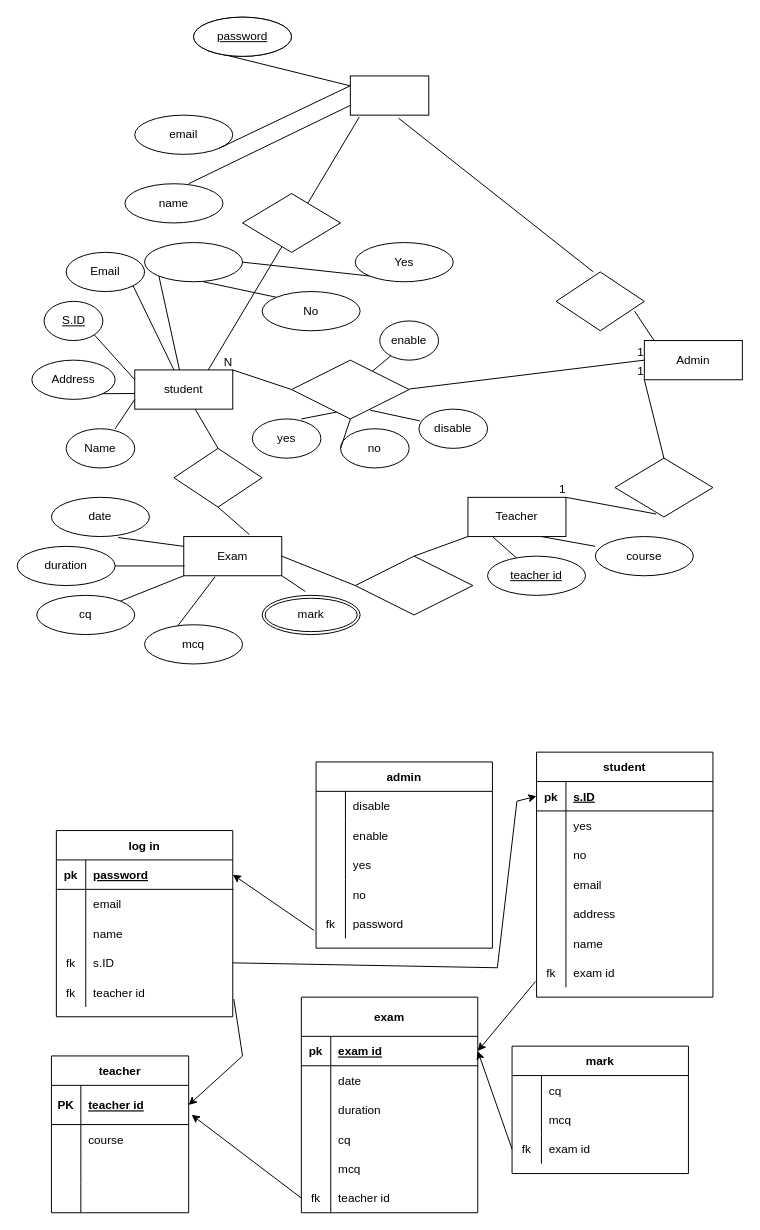
The diagram is 760 pixels wide and 1230 high, and some of its shapes have lost their labels. The shapes that lost their labels are listed below. From the top down, each one's centre as x and y in pixels, then its label:
the point at 389,95: login
the point at 291,222: must
the point at 193,262: Payment
the point at 599,301: open
the point at 350,389: permit
the point at 217,477: attend
the point at 663,487: approved
the point at 413,585: managed
